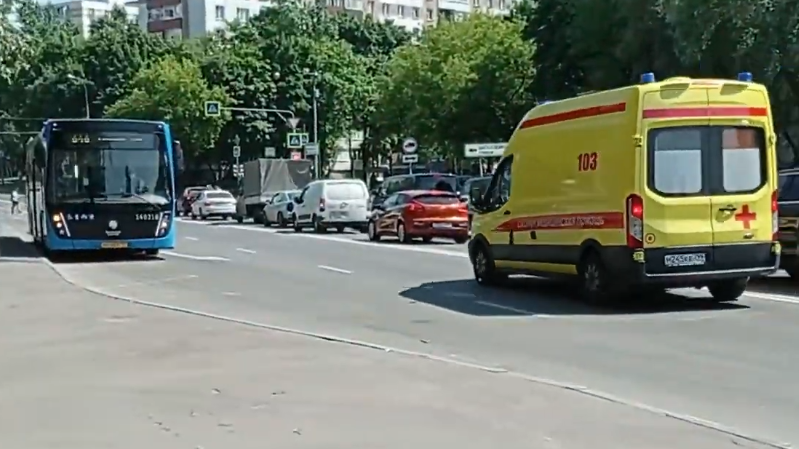intensive care unit: (467, 72, 780, 305)
non emergency car: (21, 118, 174, 251), (368, 192, 470, 244), (240, 160, 315, 225), (290, 180, 368, 233), (261, 189, 304, 228), (191, 188, 237, 219)
